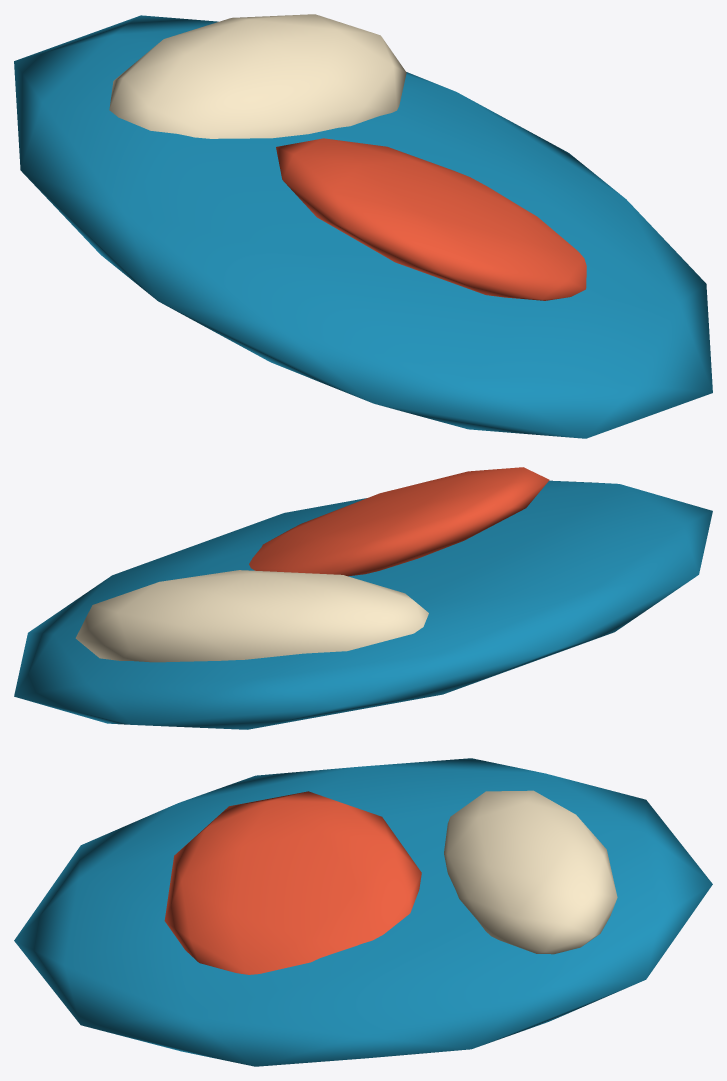
The model's file is bed.glb.
3 views of the same model, one above another, from view 1: azimuth 30°, elevation 25°; view 2: azimuth 150°, elevation 25°; view 3: azimuth 270°, elevation 25° (orthographic). The views are drawn at different scales.
Visible parts, largest first — view 1: bed_mat, bed_pillow, bed_blanket; view 2: bed_mat, bed_pillow, bed_blanket; view 3: bed_mat, bed_blanket, bed_pillow.
Part boxes in pixels (x1,y1,x2,y2): bed_mat: [14, 15, 712, 438]; bed_pillow: [109, 14, 406, 138]; bed_blanket: [276, 138, 586, 300]; bed_mat: [14, 480, 712, 729]; bed_pillow: [75, 570, 428, 662]; bed_blanket: [249, 467, 549, 576]; bed_mat: [14, 758, 712, 1066]; bed_blanket: [164, 791, 421, 974]; bed_pillow: [444, 790, 617, 954].
Size of the model in its own units: 1.03 by 0.3501 by 1.49.
